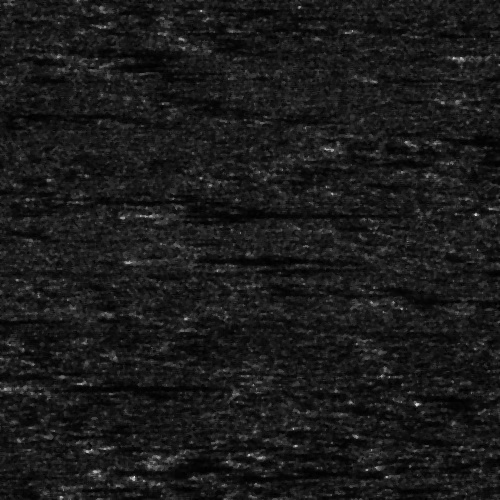object: (454, 46, 485, 65), (0, 383, 55, 390)
shadow: (13, 383, 181, 390), (470, 46, 500, 65), (0, 318, 39, 321)
